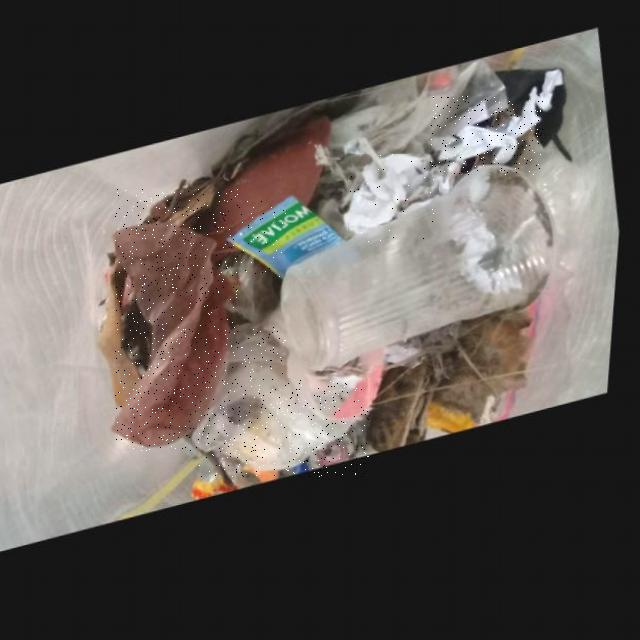biowaste: (116, 190, 239, 451)
paper: (431, 96, 543, 175), (348, 155, 439, 242)
plastic: (286, 172, 563, 378), (199, 328, 369, 477)
wrapper: (231, 202, 352, 282)
